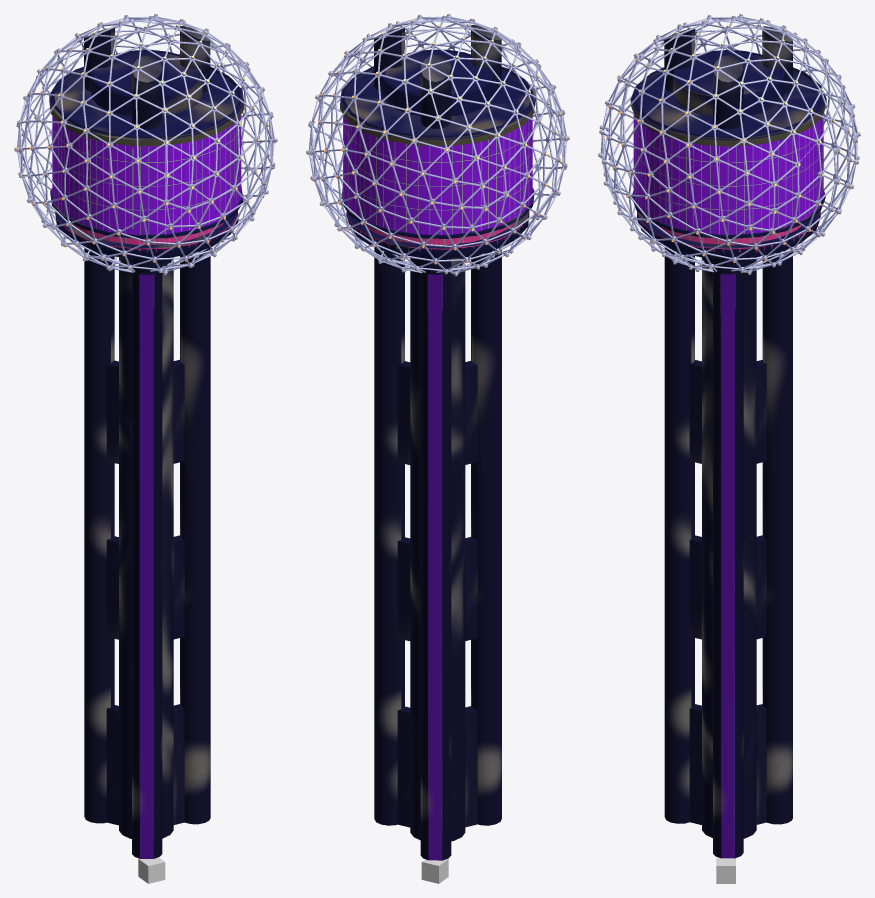
Rendered from blender_gloobe.glb.
3 renders of one model, left to right at view 1: azimuth 30°, elevation 25°; view 2: azimuth 150°, elevation 25°; view 3: azimuth 270°, elevation 25°, orthographic.
Visible parts, largest first — view 1: MainRoom, CenterSupport, Support1, PlatonicSphere, Support3, Support2, Cube; view 2: MainRoom, CenterSupport, Support2, PlatonicSphere, Support1, Support3, Cube; view 3: MainRoom, CenterSupport, Support3, PlatonicSphere, Support2, Support1, Cube.
Part boxes in pixels (x1=…): MainRoom: x1=49, y1=50, x2=244, y2=258; CenterSupport: x1=106, y1=257, x2=184, y2=838; Support1: x1=132, y1=55, x2=162, y2=858; PlatonicSphere: x1=17, y1=16, x2=274, y2=272; Support3: x1=180, y1=26, x2=210, y2=824; Support2: x1=84, y1=27, x2=114, y2=823; Cube: x1=138, y1=857, x2=165, y2=883; MainRoom: x1=340, y1=49, x2=535, y2=259; CenterSupport: x1=397, y1=257, x2=477, y2=841; Support2: x1=420, y1=54, x2=451, y2=860; PlatonicSphere: x1=309, y1=16, x2=566, y2=273; Support1: x1=471, y1=25, x2=501, y2=825; Support3: x1=374, y1=27, x2=404, y2=825; Cube: x1=421, y1=858, x2=448, y2=883; MainRoom: x1=630, y1=50, x2=826, y2=259; CenterSupport: x1=689, y1=257, x2=766, y2=838; Support3: x1=713, y1=55, x2=743, y2=858; PlatonicSphere: x1=601, y1=16, x2=857, y2=272; Support2: x1=762, y1=26, x2=792, y2=824; Support1: x1=664, y1=28, x2=695, y2=823; Cube: x1=716, y1=857, x2=735, y2=883.
Size of the model in its own units: 26.59 by 95.4 by 26.63.
4 materials, 3 textured.
